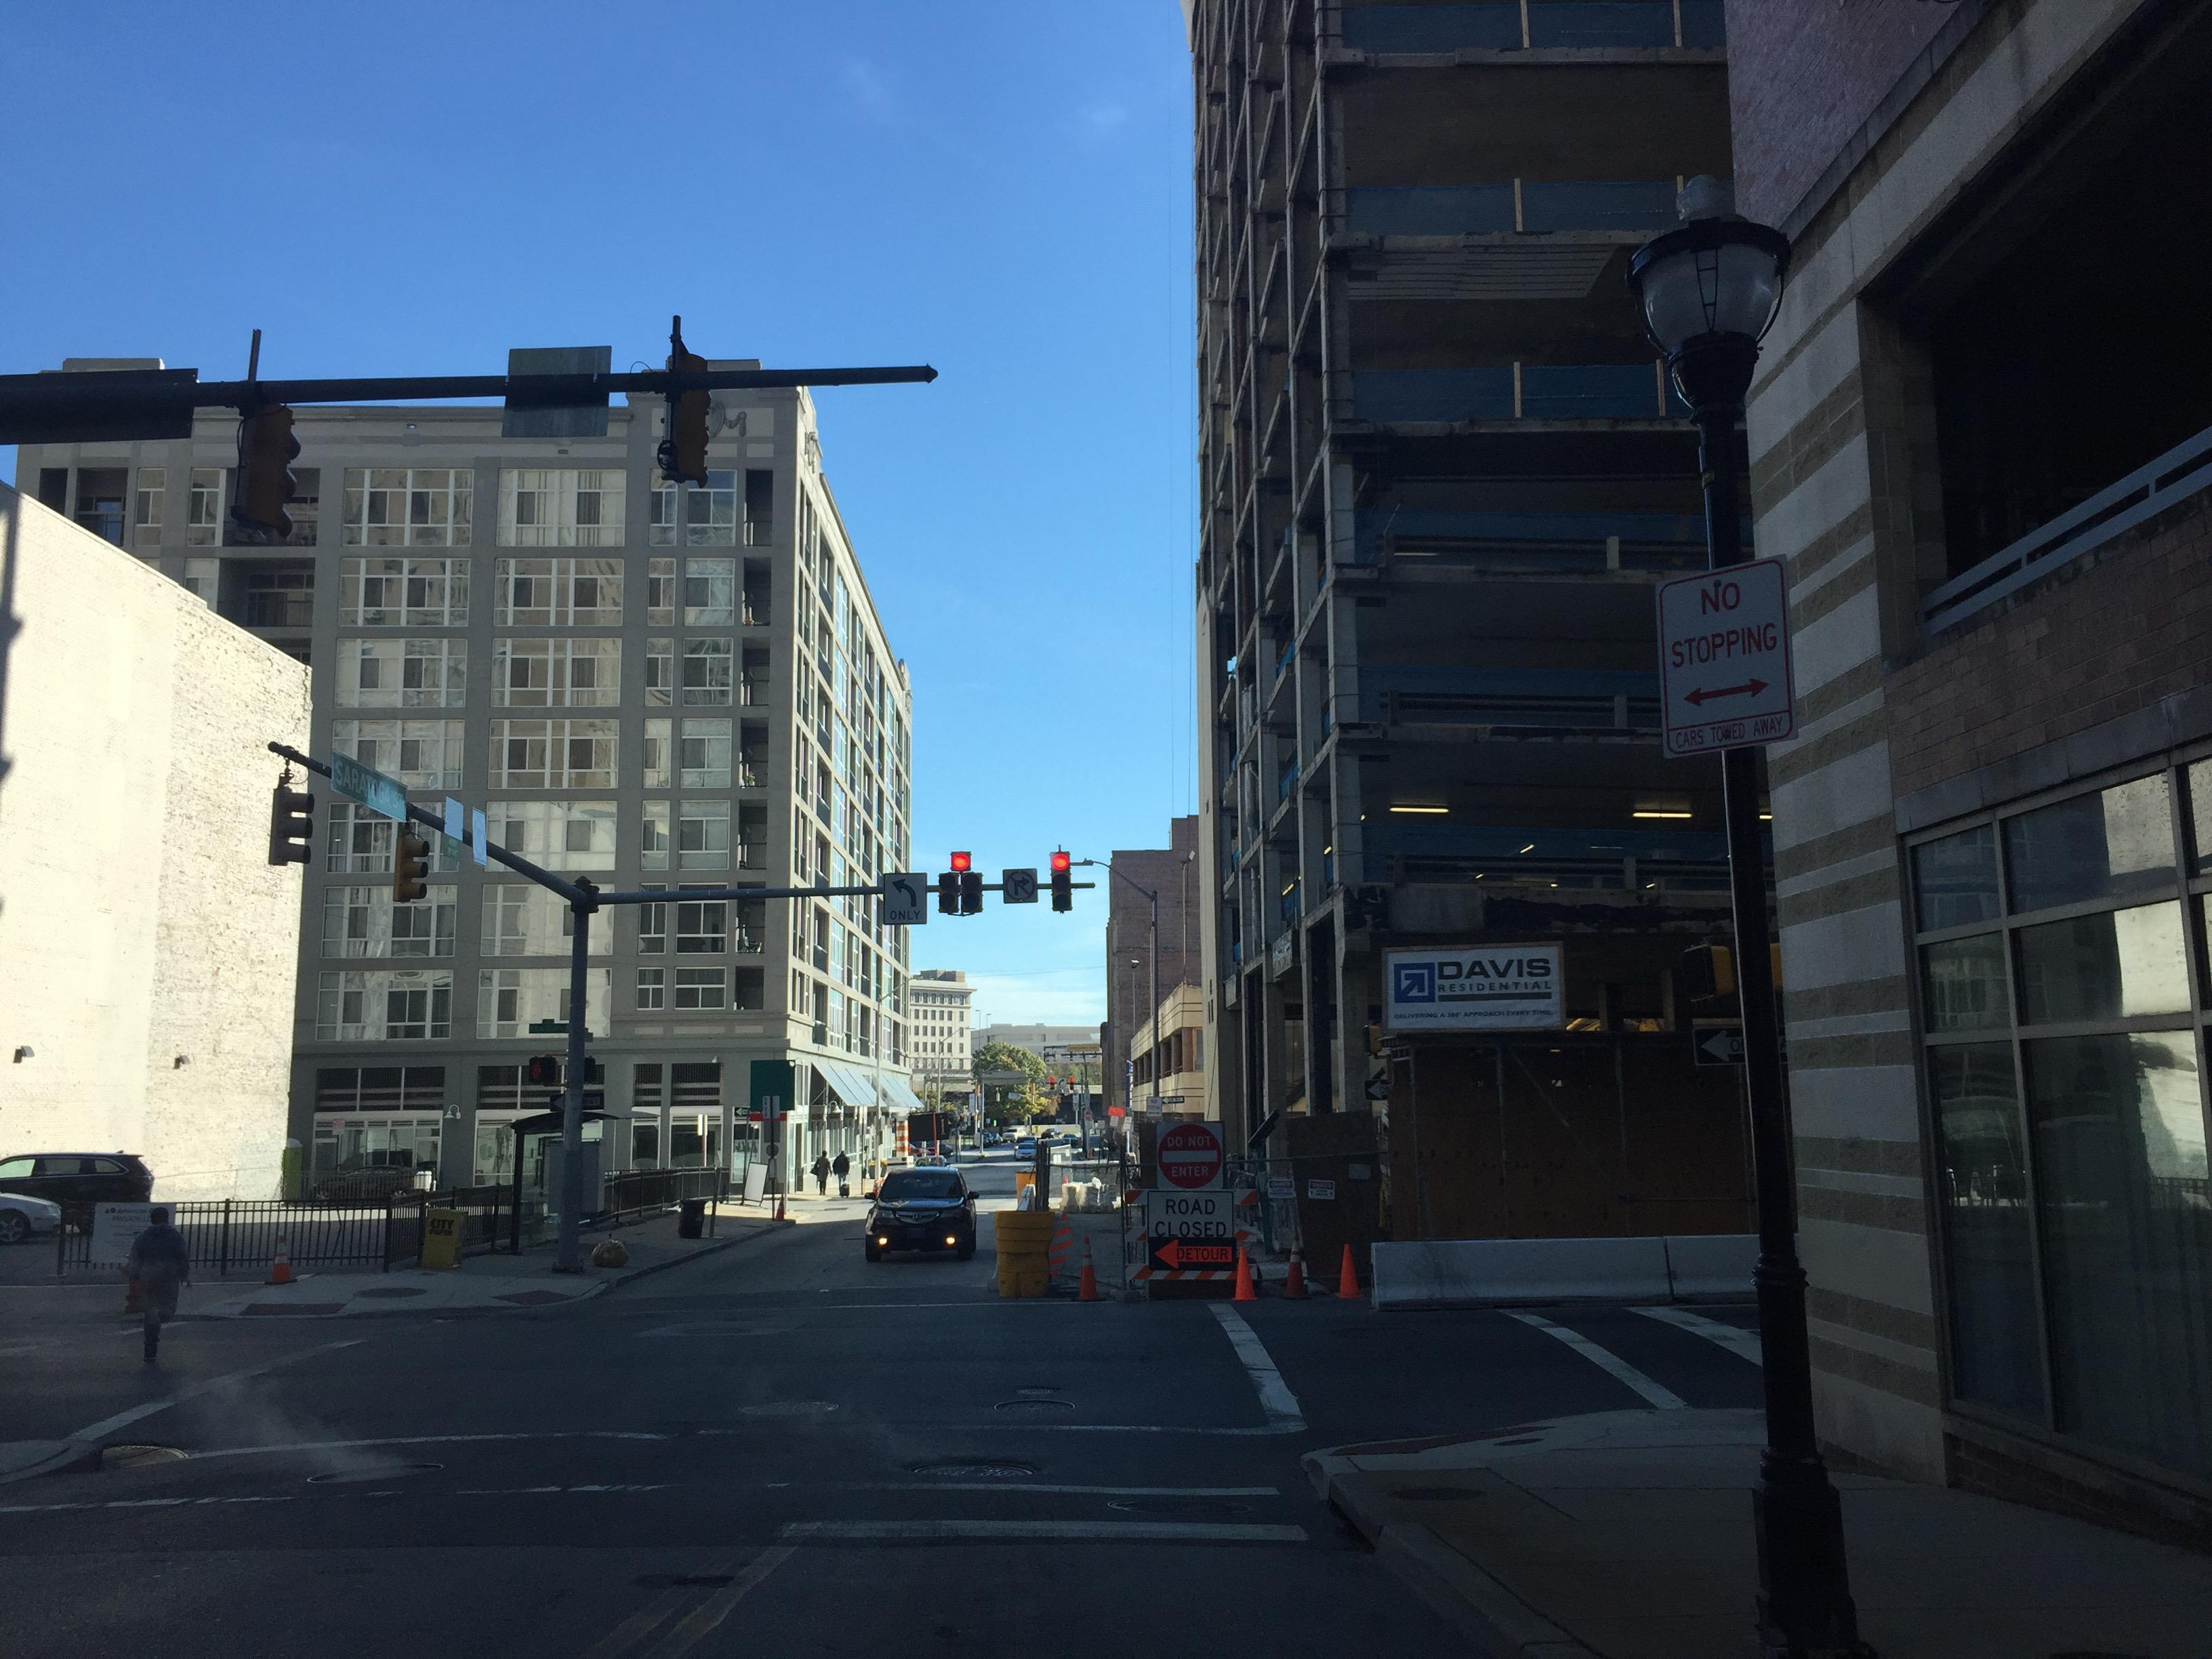vinyl banner: (1357, 925, 1580, 1037)
